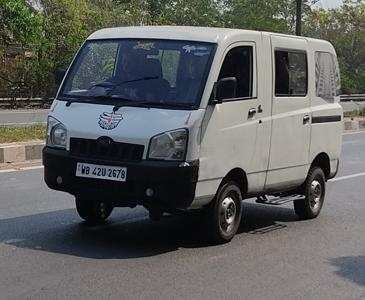Auto: (40, 21, 345, 244)
